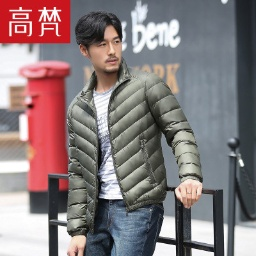face: (75, 12, 124, 74)
